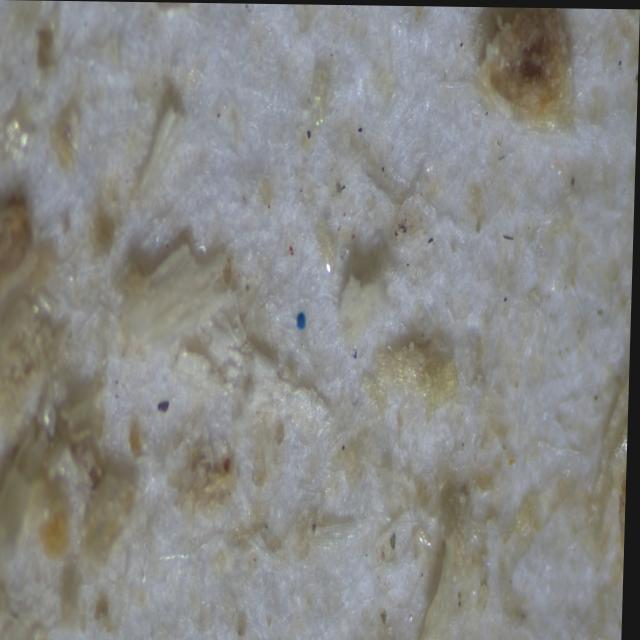microplastic: (295, 305, 308, 330)
